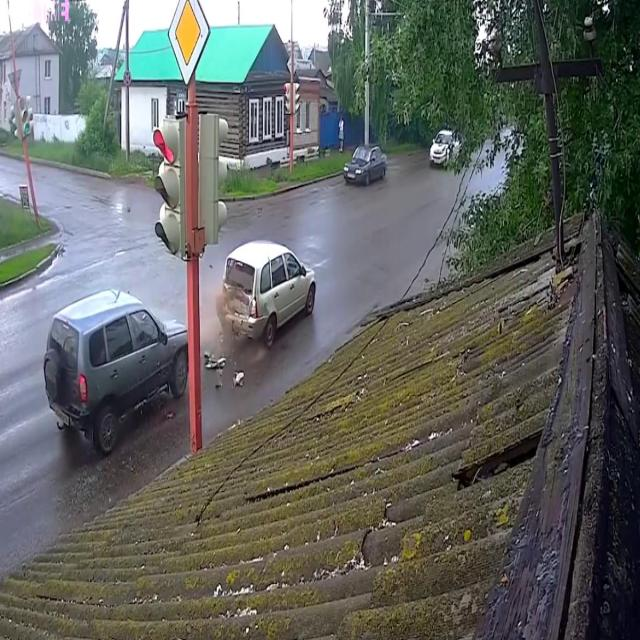accident: (199, 231, 321, 399)
